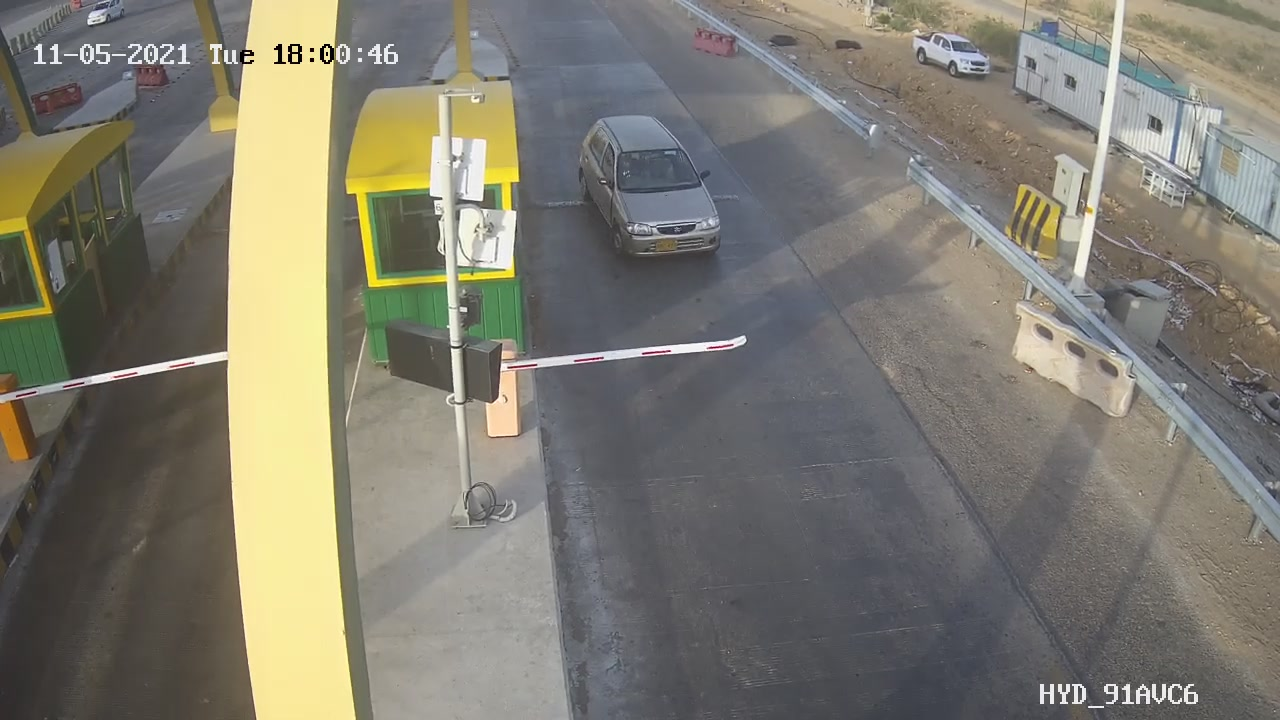F1: (574, 109, 729, 268)
